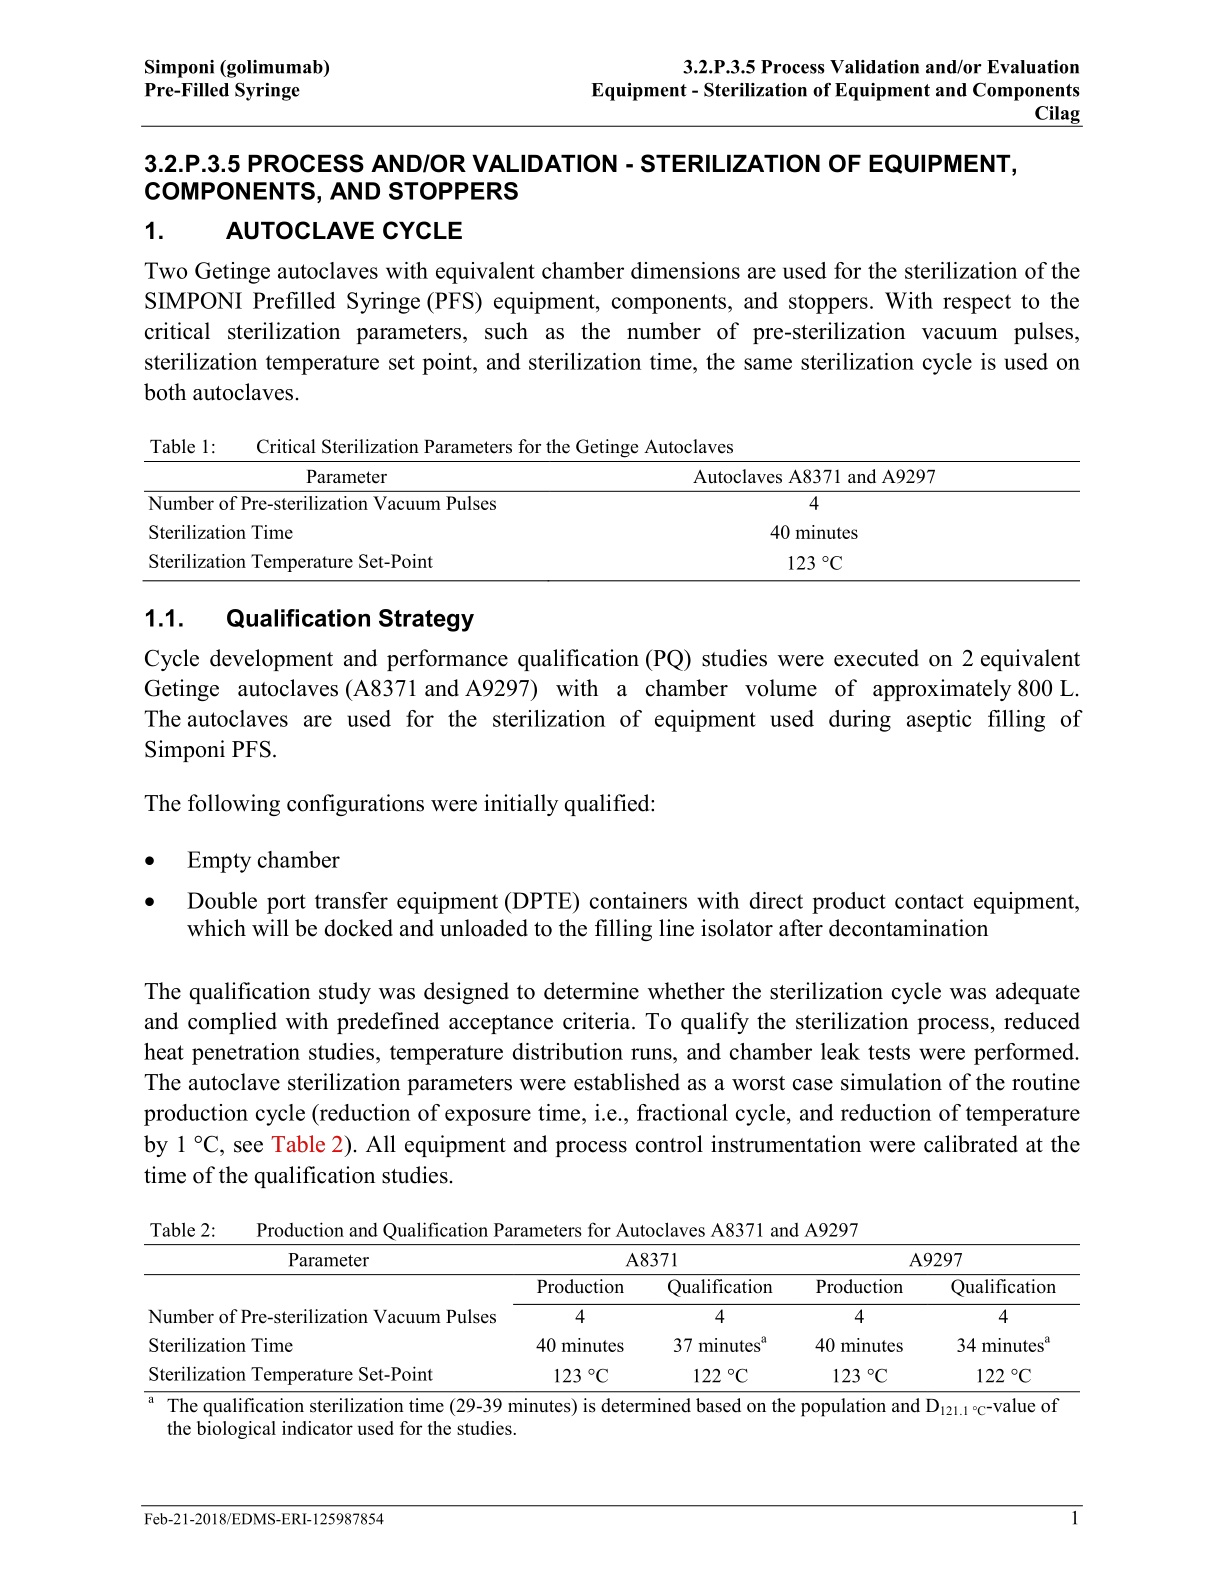partial_lined: (141, 1243, 1080, 1392), (143, 462, 1081, 582)
